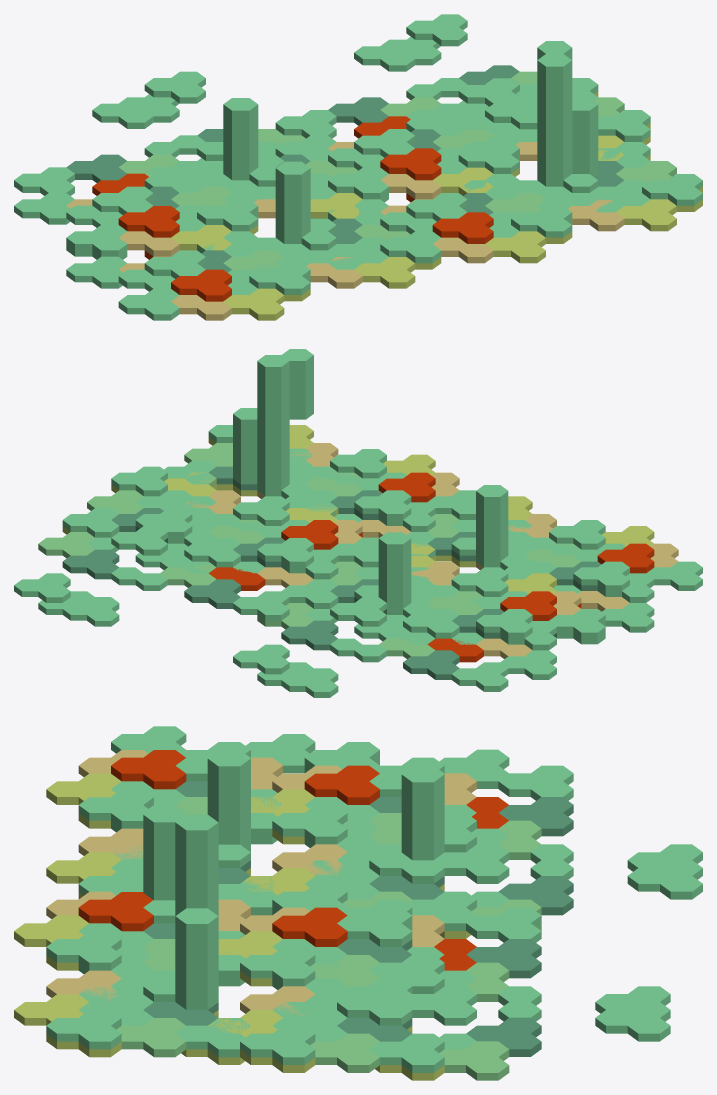
The model's file is Map02.fbx.
The picture shows the model from 3 angles, top to bottom: view 1: azimuth 30°, elevation 25°; view 2: azimuth 150°, elevation 25°; view 3: azimuth 270°, elevation 25°; orthographic projection. The views are drawn at different scales.
Visible parts, largest first — view 1: Cylinder.001; view 2: Cylinder.001; view 3: Cylinder.001.
Part boxes in pixels (x1=…): Cylinder.001: x1=14, y1=14, x2=702, y2=320; Cylinder.001: x1=14, y1=349, x2=702, y2=697; Cylinder.001: x1=14, y1=726, x2=702, y2=1080.
Size of the model in its own units: 1905 by 480 by 1600.
